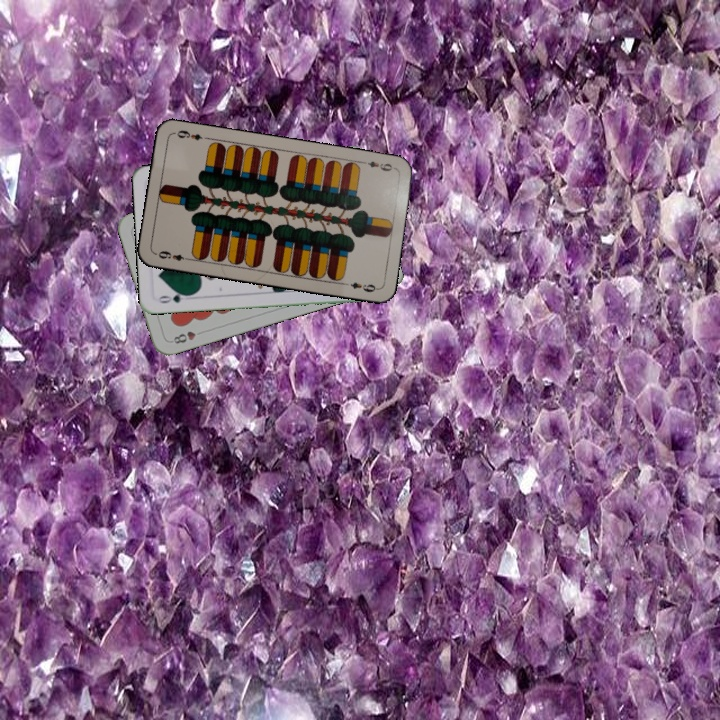E9: (152, 247, 193, 264), (358, 157, 398, 174)
GO: (155, 288, 195, 306)
H8: (167, 327, 199, 346)
